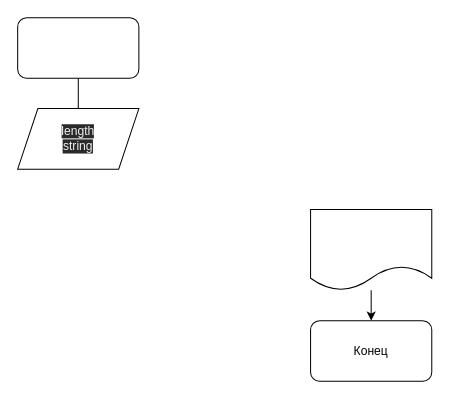
Some shapes in this 449 by 399 pixel diagram are drawn without their labels. The box of each missing label's shape, as (x1, y1, x2, y2) in pixels:
arr -> arrNew: (310, 209, 432, 290)
Начало: (17, 17, 139, 78)
